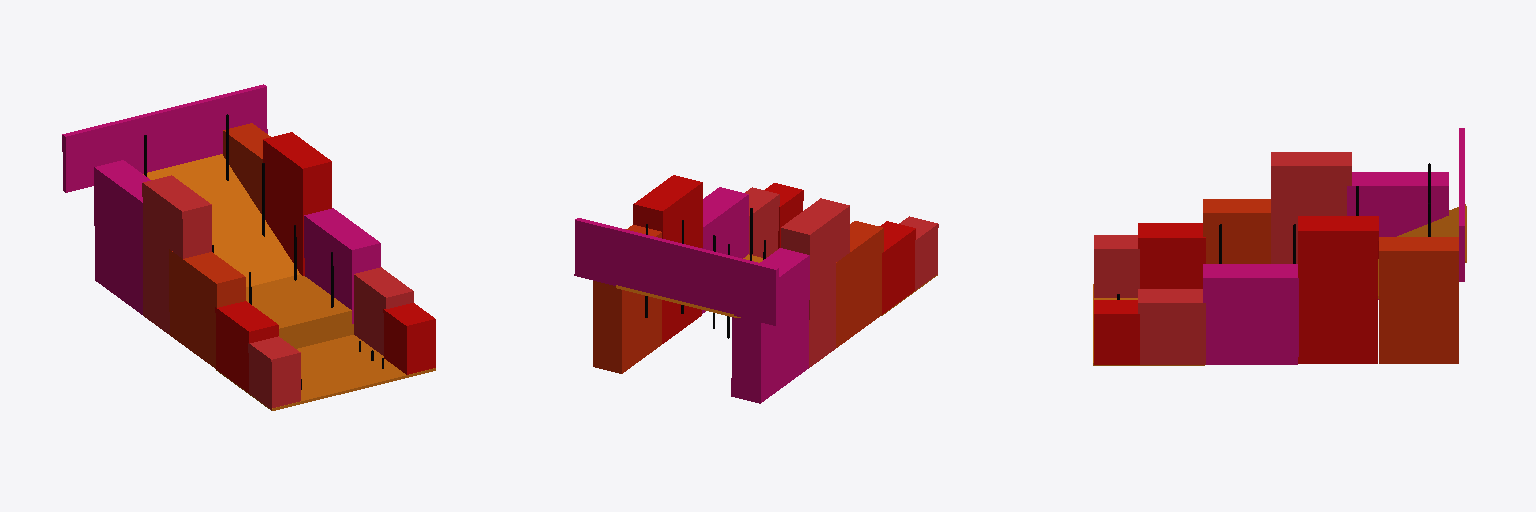
The model's file is SanFran.obj.
The picture shows the model from 3 angles: view 1: azimuth 30°, elevation 25°; view 2: azimuth 150°, elevation 25°; view 3: azimuth 270°, elevation 25°; orthographic projection.
Parts seen in each view (by area): view 1: San_Fran_Blockout; view 2: San_Fran_Blockout; view 3: San_Fran_Blockout.
Part boxes in pixels (left/top/right/bottom): San_Fran_Blockout: left=62, top=84, right=435, bottom=410; San_Fran_Blockout: left=574, top=175, right=938, bottom=403; San_Fran_Blockout: left=1093, top=128, right=1466, bottom=365.
Size of the model in its own units: 4064 by 3054 by 6507.